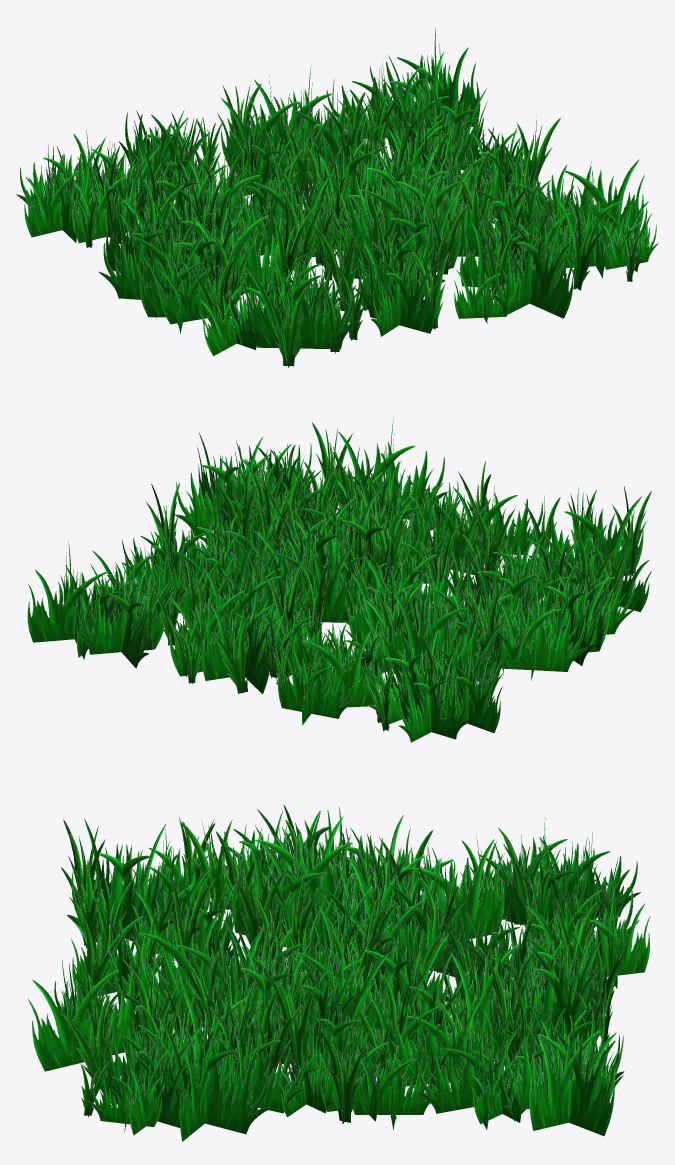
File: Grass.fbx
3 views of the same model, one above another, from view 1: azimuth 30°, elevation 25°; view 2: azimuth 150°, elevation 25°; view 3: azimuth 270°, elevation 25° (orthographic). The views are drawn at different scales.
Visible parts, largest first — view 1: Plane.008; view 2: Plane.008; view 3: Plane.008.
Part boxes in pixels (<box>): Plane.008: <box>16,28,658,367</box>; Plane.008: <box>27,418,652,742</box>; Plane.008: <box>28,805,650,1141</box>.
Size of the model in its own units: 6.19 by 6.14 by 1.32.
